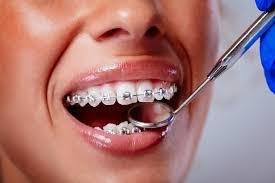Braces: (64, 86, 176, 103), (105, 125, 148, 135)
